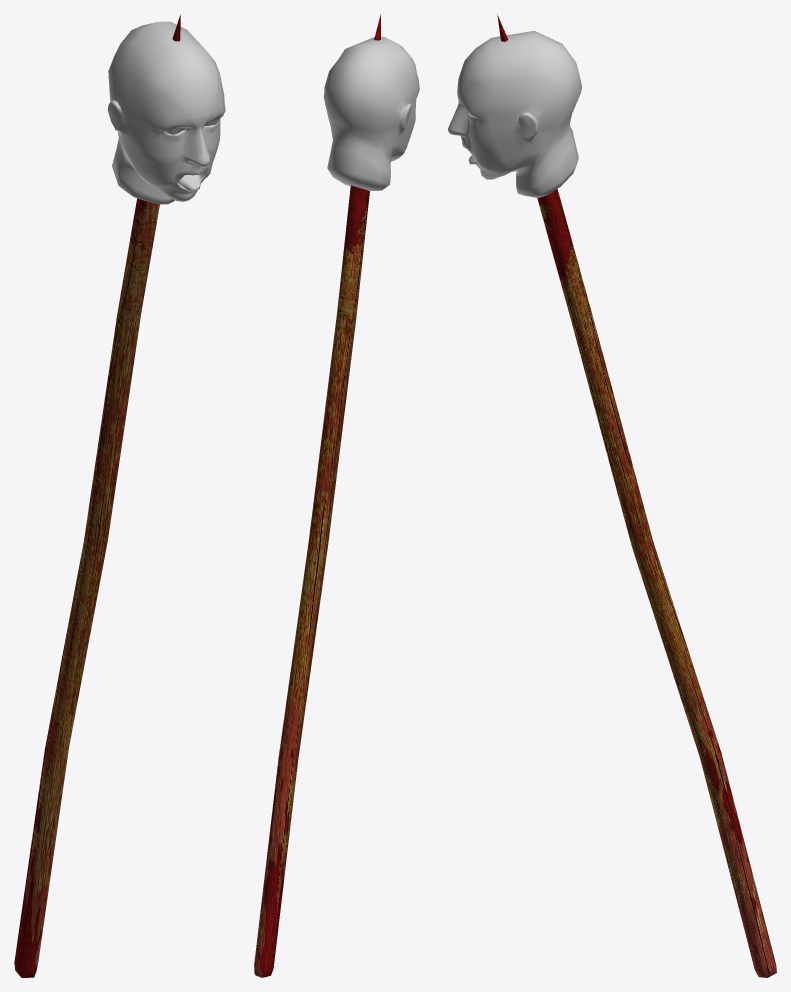
Rendered from severed_exp_01.fbx.
3 renders of one model, left to right at view 1: azimuth 30°, elevation 25°; view 2: azimuth 150°, elevation 25°; view 3: azimuth 270°, elevation 25°, orthographic. The views are drawn at different scales.
Visible parts, largest first — view 1: severed_exp_01; view 2: severed_exp_01; view 3: severed_exp_01.
Boxes of the visible parts, bbox=[...] form: severed_exp_01: bbox=[14, 14, 225, 977]; severed_exp_01: bbox=[254, 14, 419, 977]; severed_exp_01: bbox=[448, 14, 776, 977].
Bounding box in the file's own units: 0.2194 × 2.18 × 0.6719.
